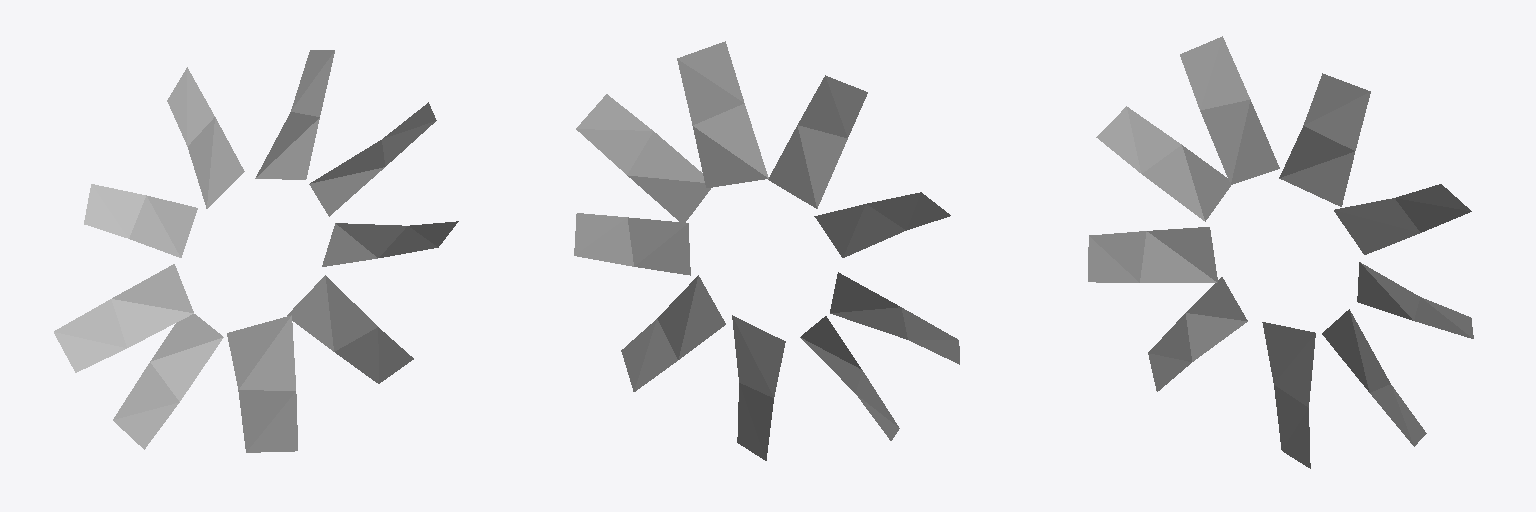
Rendered from Blade.obj.
3 views of the same model, side by side, from view 1: azimuth 30°, elevation 25°; view 2: azimuth 150°, elevation 25°; view 3: azimuth 330°, elevation 25° (orthographic).
Parts seen in each view (by area): view 1: Ventilation_2_blades; view 2: Ventilation_2_blades; view 3: Ventilation_2_blades.
Part boxes in pixels (x1,y1,x2,y2): Ventilation_2_blades: (54, 50, 458, 452); Ventilation_2_blades: (574, 41, 959, 460); Ventilation_2_blades: (1088, 36, 1473, 468).
Bounding box in the file's own units: 1.25 × 1.21 × 0.064.